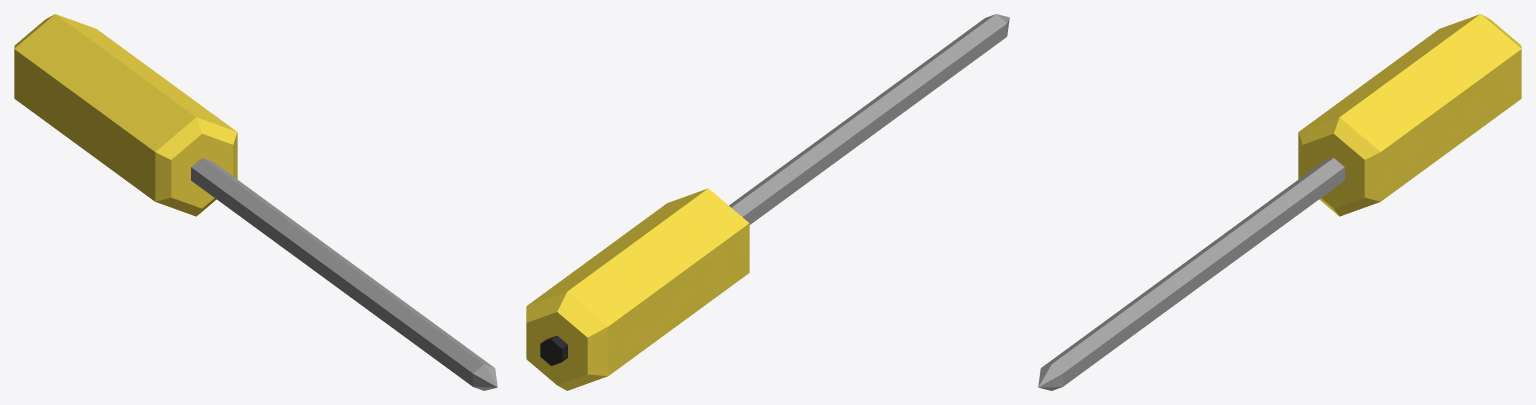
Rendered from Screw_Driver.fbx.
The picture shows the model from 3 angles, left to right: view 1: azimuth 30°, elevation 25°; view 2: azimuth 150°, elevation 25°; view 3: azimuth 330°, elevation 25°; orthographic projection.
Parts seen in each view (by area): view 1: Screw_Driver; view 2: Screw_Driver; view 3: Screw_Driver.
Part boxes in pixels (x1,y1,x2,y2): Screw_Driver: [14, 14, 497, 390]; Screw_Driver: [526, 14, 1009, 390]; Screw_Driver: [1038, 14, 1521, 390].
Bounding box in the file's own units: 0.0223 × 0.0257 × 0.215.
